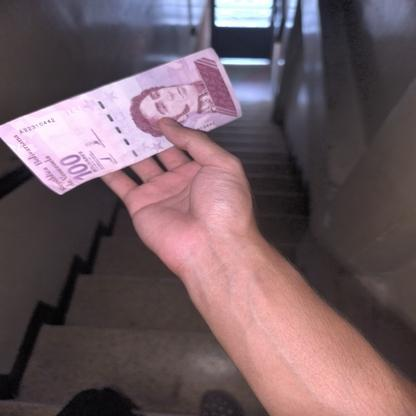one_hundred-front-vef: (0, 46, 243, 196)
